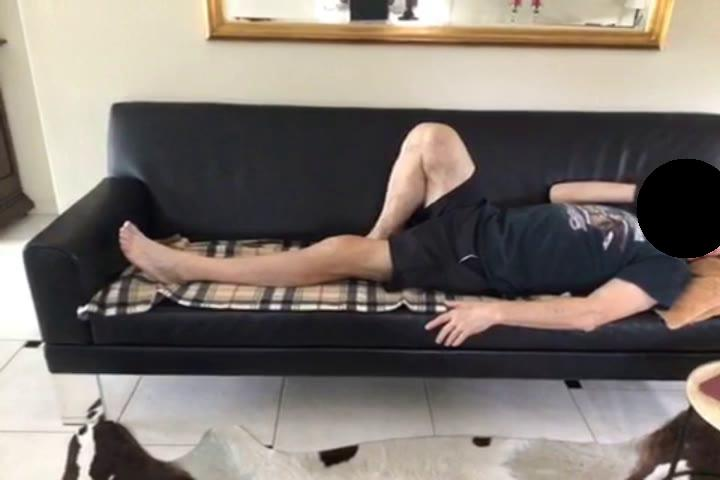lower_body: (118, 121, 504, 298)
